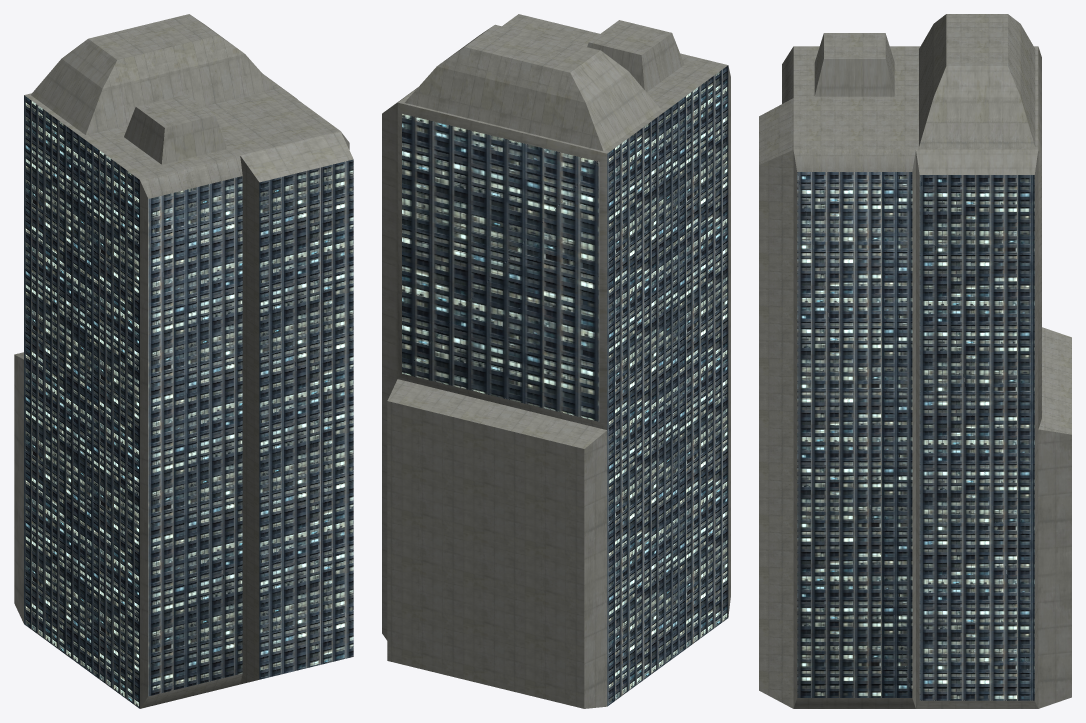
The model's file is 2026-residential-building-5.glb.
3 renders of one model, left to right at view 1: azimuth 30°, elevation 25°; view 2: azimuth 150°, elevation 25°; view 3: azimuth 270°, elevation 25°, orthographic. The views are drawn at different scales.
Visible parts, largest first — view 1: 2026-residential-building-5; view 2: 2026-residential-building-5; view 3: 2026-residential-building-5.
Part boxes in pixels (left/top/right/bottom): 2026-residential-building-5: left=14, top=14, right=353, bottom=708; 2026-residential-building-5: left=382, top=14, right=730, bottom=708; 2026-residential-building-5: left=759, top=14, right=1071, bottom=708.
Size of the model in its own units: 48.33 by 124 by 56.99.
Materials: 2 (2 with a texture image).
